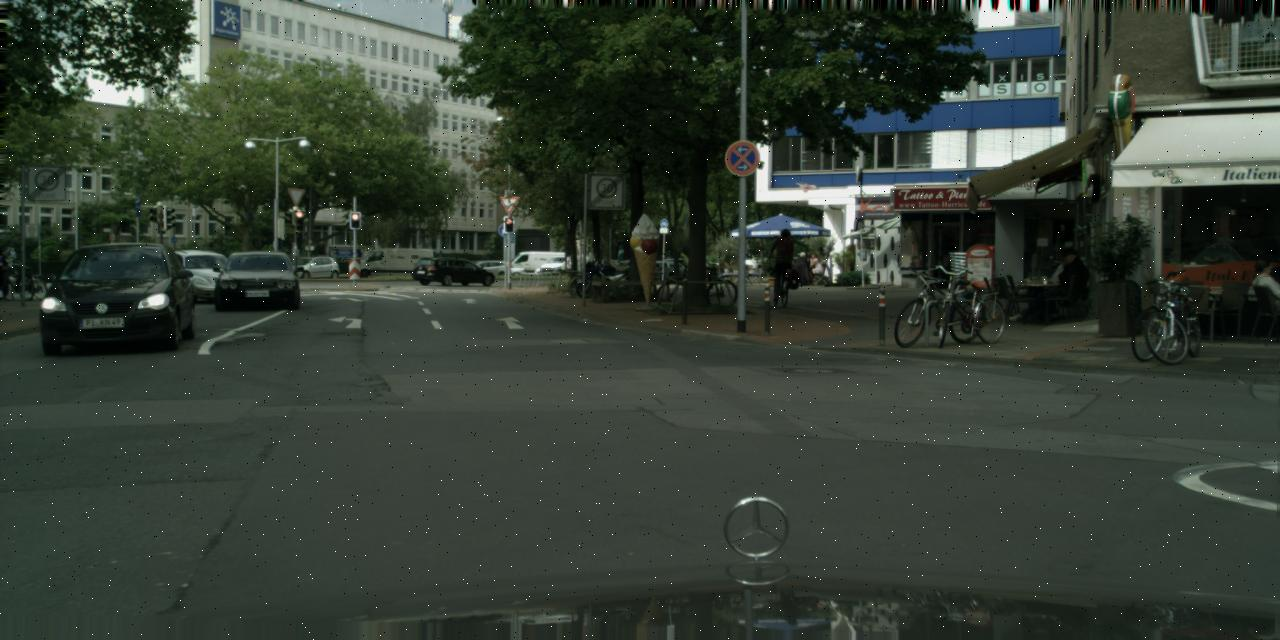ped: (770, 228, 796, 295), (0, 249, 16, 299), (1, 245, 12, 274), (7, 247, 18, 274)
